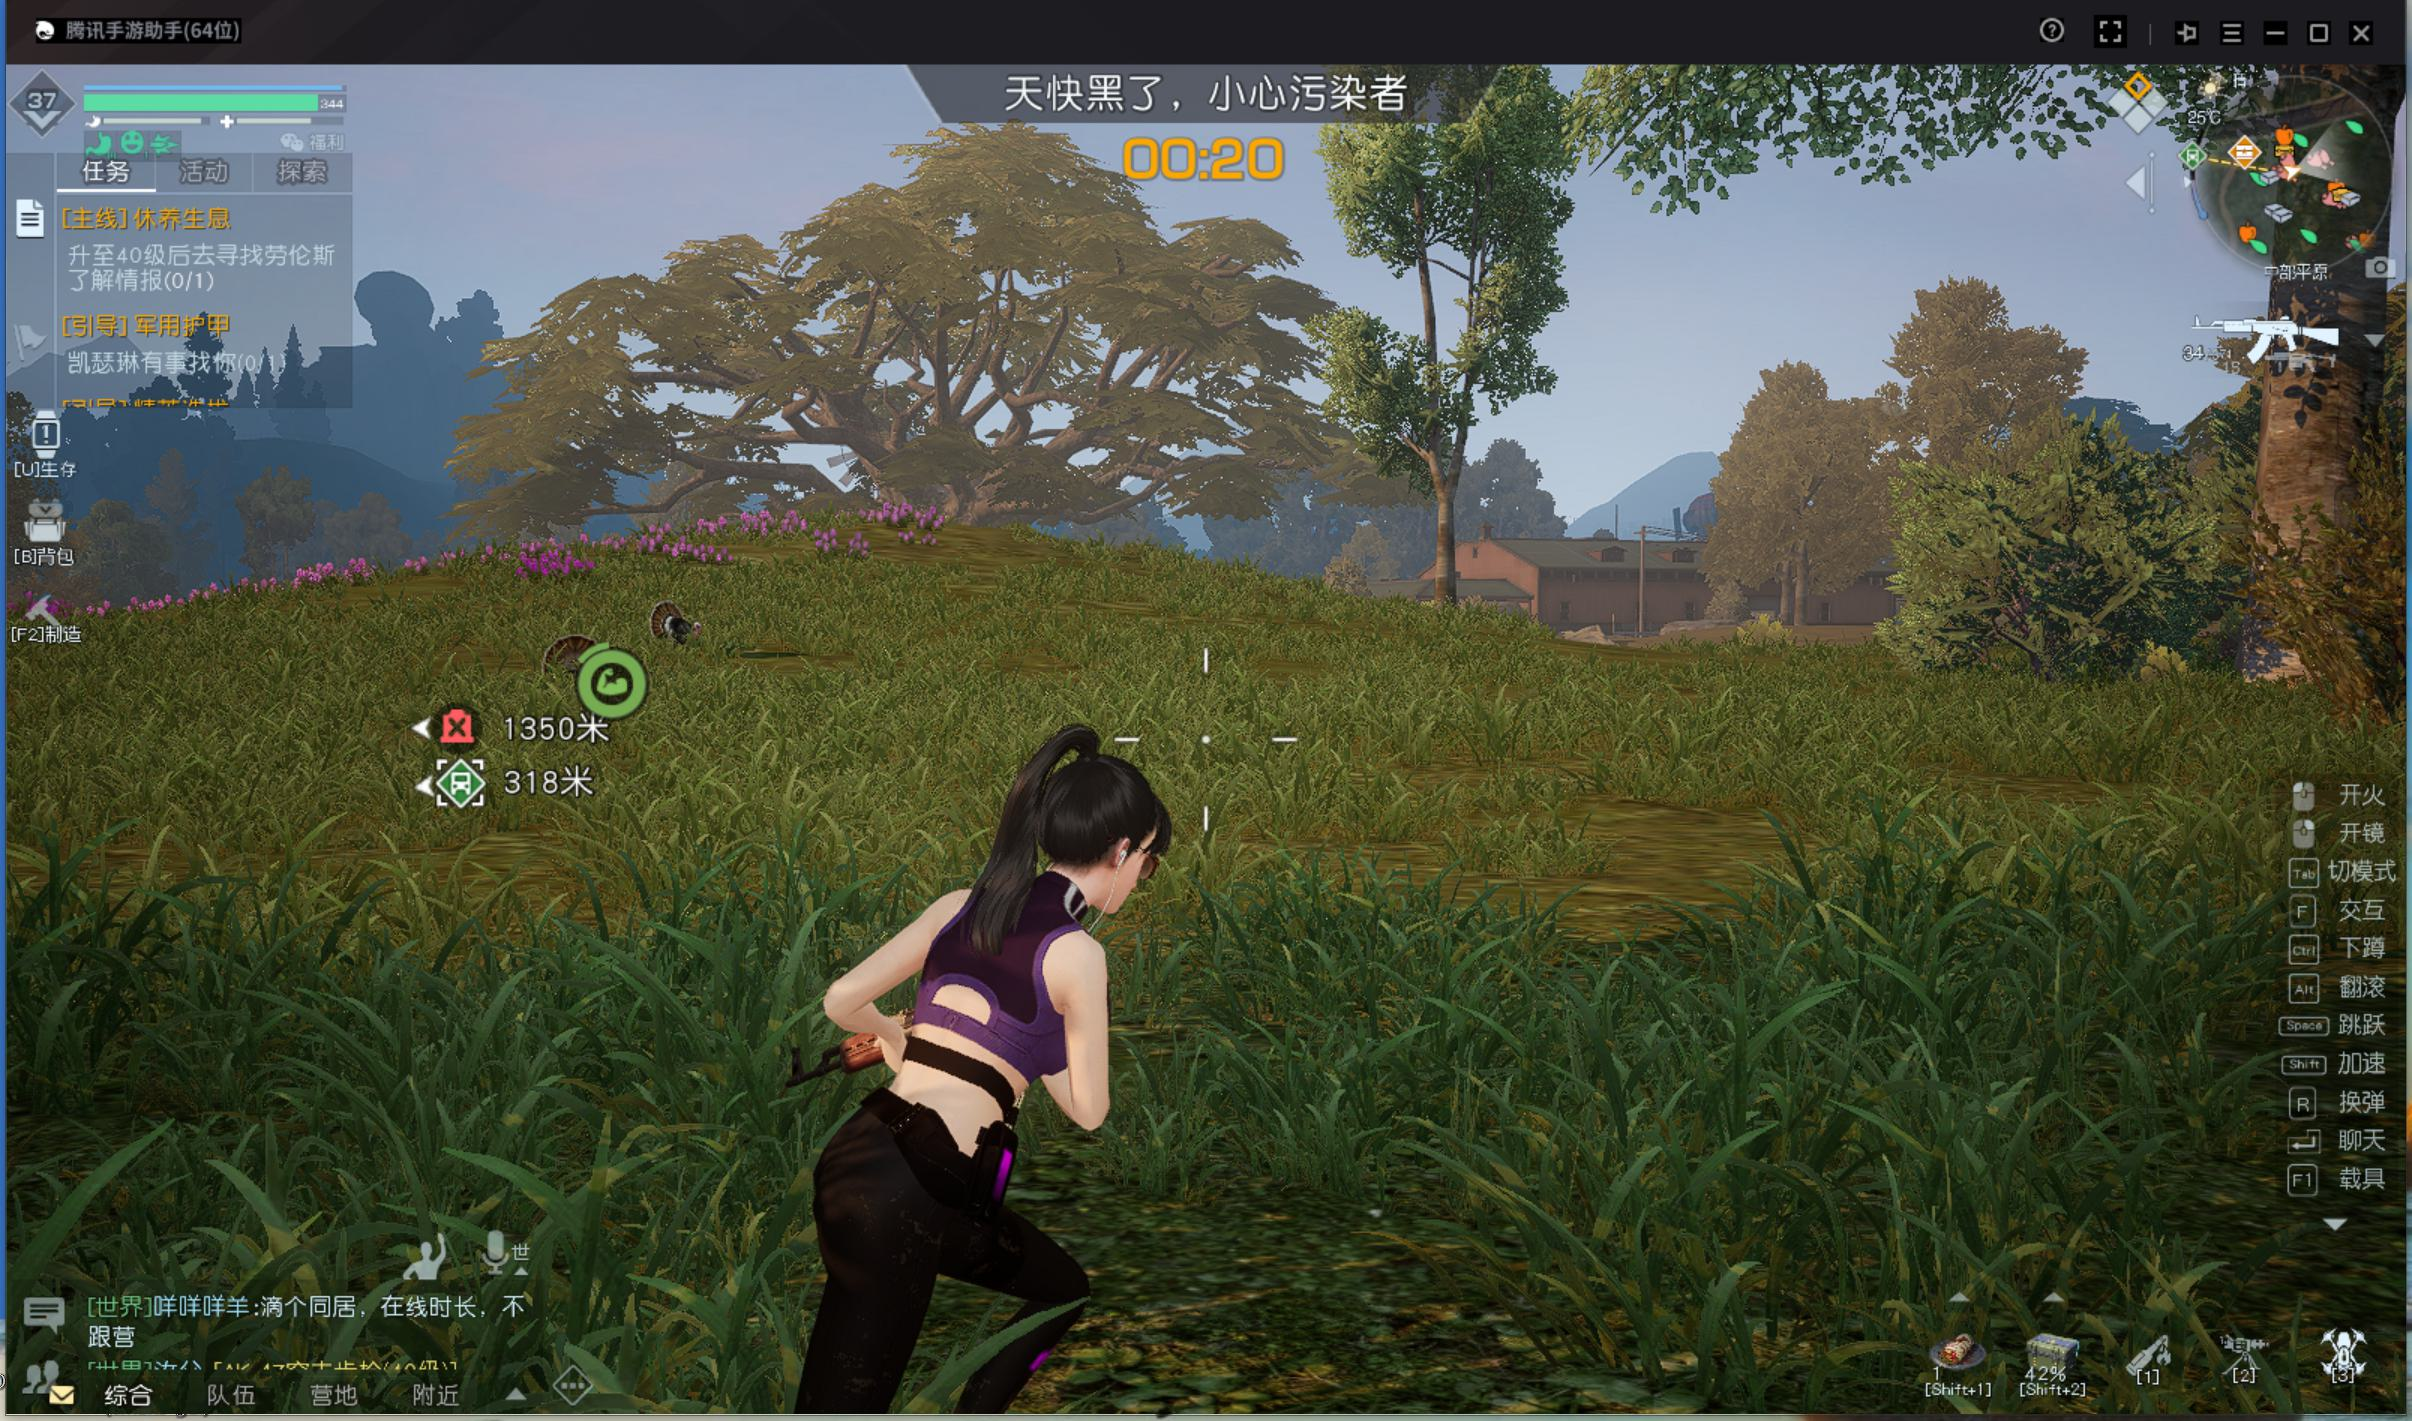tree: (2224, 277, 2405, 699), (1428, 501, 1472, 623), (1790, 557, 1815, 624)
